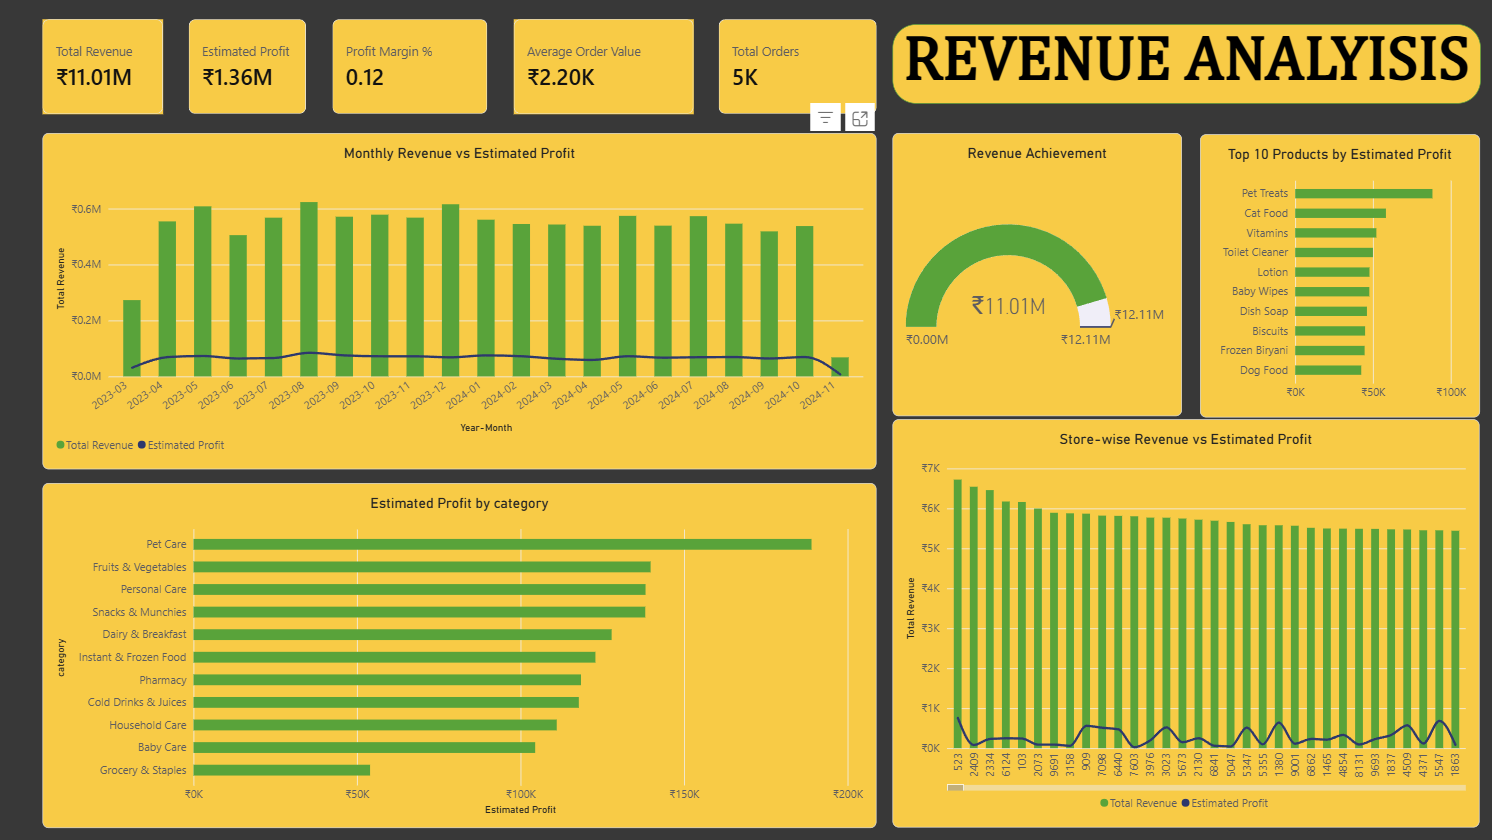

The page's visual inventory and layout, read from the dashboard file:
{"tool":"powerbi","page":{"name":"PROFIT & REVENUE","canvas":[1920,1080],"ordinal":7},"visuals":[{"type":"cardVisual","fields":{"Data":["blinkit_orders.Average Order Value"]},"box":[663,27.6,230.1,121.5],"z":0},{"type":"cardVisual","fields":{"Data":["blinkit_order_items.Estimated Profit"]},"box":[248,27.6,150.9,121.5],"z":1000},{"type":"cardVisual","fields":{"Data":["blinkit_orders.Total Orders"]},"box":[925.8,27.6,202.5,121.5],"z":2000},{"type":"cardVisual","fields":{"Data":["blinkit_order_items.Profit Margin %"]},"box":[431.6,27.6,198.8,121.5],"z":3000},{"type":"cardVisual","fields":{"Data":["blinkit_orders.Total Revenue"]},"box":[60.7,27.6,154.6,121.5],"z":4000},{"type":"lineClusteredColumnComboChart","title":"Monthly Revenue vs Estimated Profit","fields":{"Category":["DateTable.Year-Month"],"Y":["blinkit_orders.Total Revenue"],"Y2":["blinkit_order_items.Estimated Profit"]},"box":[60.7,173,1067.5,430.7],"z":5000},{"type":"clusteredBarChart","fields":{"Category":["blinkit_products.category"],"Y":["blinkit_order_items.Estimated Profit"]},"box":[60.7,620.2,1067.5,441.7],"z":6000},{"type":"gauge","title":"Revenue Achievement","fields":{"MaxValue":["blinkit_orders.Revenue Target"],"TargetValue":["blinkit_orders.Revenue Target"],"Y":["blinkit_orders.Total Revenue"]},"box":[1148.5,173,370.5,362.3],"z":7000},{"type":"clusteredBarChart","title":"Top 10 Products by Estimated Profit","fields":{"Category":["blinkit_products.product_name"],"Y":["blinkit_order_items.Estimated Profit"]},"box":[1542.3,174.8,358.1,362.3],"z":8000},{"type":"lineClusteredColumnComboChart","title":"Store-wise Revenue vs Estimated Profit","fields":{"Category":["blinkit_orders.store_id"],"Y":["blinkit_orders.Total Revenue"],"Y2":["blinkit_order_items.Estimated Profit"]},"box":[1148.5,539.3,750.9,522.7],"z":9000},{"type":"textbox","box":[1148.5,33.1,752.8,101.2],"z":10000}]}

Visuals, with their boxes in screenshot pixels (x1, y1, x2, y2), scaled from the page's 1920x1080 canvas onto the 1492x840 screenshot:
cardVisual - blinkit_orders.Average Order Value: pyautogui.locateOnScreen(515, 21, 694, 116)
cardVisual - blinkit_order_items.Estimated Profit: pyautogui.locateOnScreen(193, 21, 310, 116)
cardVisual - blinkit_orders.Total Orders: pyautogui.locateOnScreen(719, 21, 877, 116)
cardVisual - blinkit_order_items.Profit Margin %: pyautogui.locateOnScreen(335, 21, 490, 116)
cardVisual - blinkit_orders.Total Revenue: pyautogui.locateOnScreen(47, 21, 167, 116)
"Monthly Revenue vs Estimated Profit" lineClusteredColumnComboChart: pyautogui.locateOnScreen(47, 135, 877, 470)
clusteredBarChart - blinkit_products.category x blinkit_order_items.Estimated Profit: pyautogui.locateOnScreen(47, 482, 877, 826)
"Revenue Achievement" gauge: pyautogui.locateOnScreen(892, 135, 1180, 416)
"Top 10 Products by Estimated Profit" clusteredBarChart: pyautogui.locateOnScreen(1198, 136, 1477, 418)
"Store-wise Revenue vs Estimated Profit" lineClusteredColumnComboChart: pyautogui.locateOnScreen(892, 419, 1476, 826)
textbox: pyautogui.locateOnScreen(892, 26, 1477, 104)
